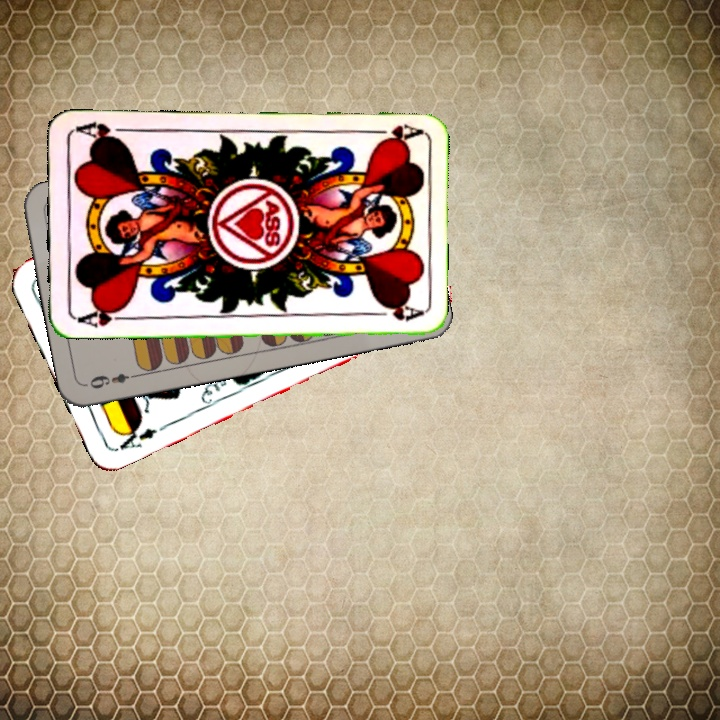E9: (85, 369, 142, 392)
EA: (112, 420, 160, 454)
HA: (72, 303, 131, 330), (363, 120, 422, 145)
